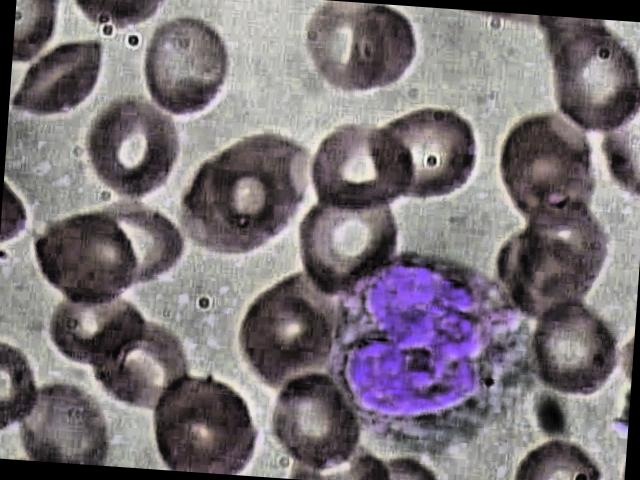RBC: (352, 98, 482, 218), (292, 182, 422, 302), (192, 122, 320, 240), (140, 364, 262, 475), (514, 290, 626, 401), (266, 368, 369, 480), (27, 212, 141, 310), (543, 27, 640, 138), (8, 31, 112, 134), (80, 101, 184, 204), (134, 16, 238, 118), (8, 377, 114, 465), (340, 1, 430, 101), (506, 431, 612, 480)
WBC: (312, 250, 537, 458)
